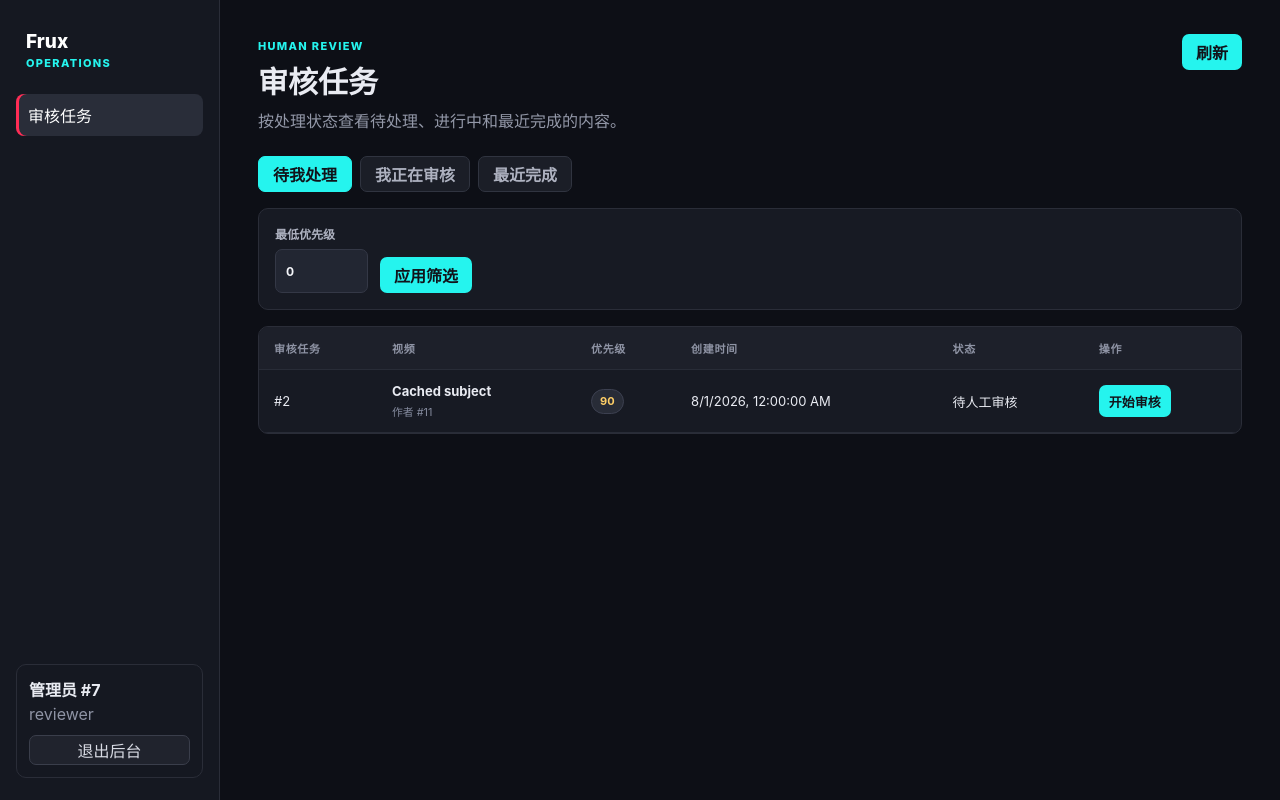
Scenario: admin content operations workspace › keeps queue scope states isolated
Click the tab "我正在审核" at (415, 174), box left=360, top=156, right=470, bottom=192
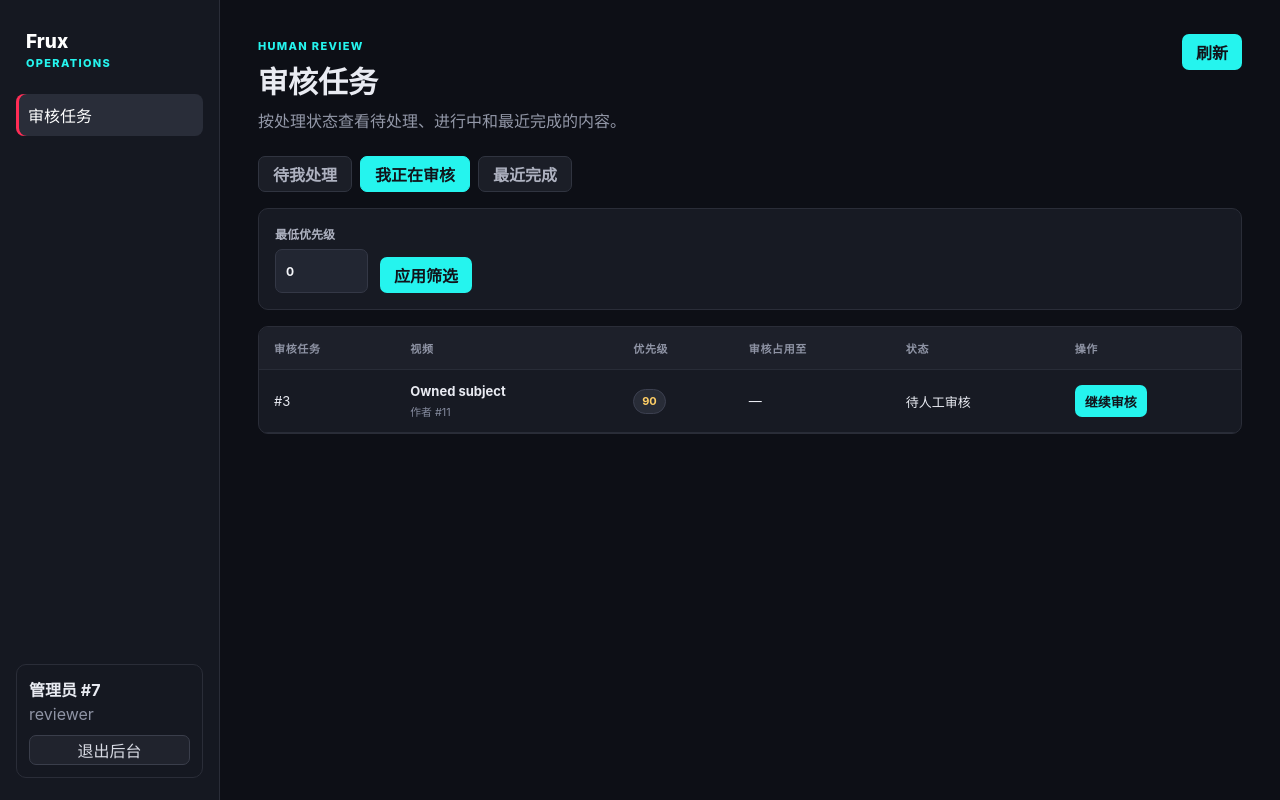
Check: the text "Owned subject" is shown, box left=410, top=383, right=506, bottom=399
Check: the text "Cached subject" is gone
